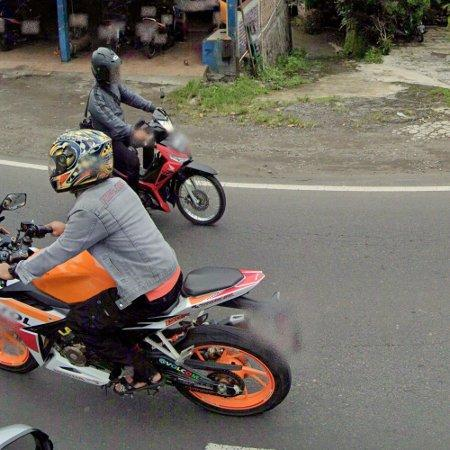motorcycles: (123, 268, 292, 417), (0, 251, 116, 387), (138, 110, 226, 225), (0, 223, 49, 264)
